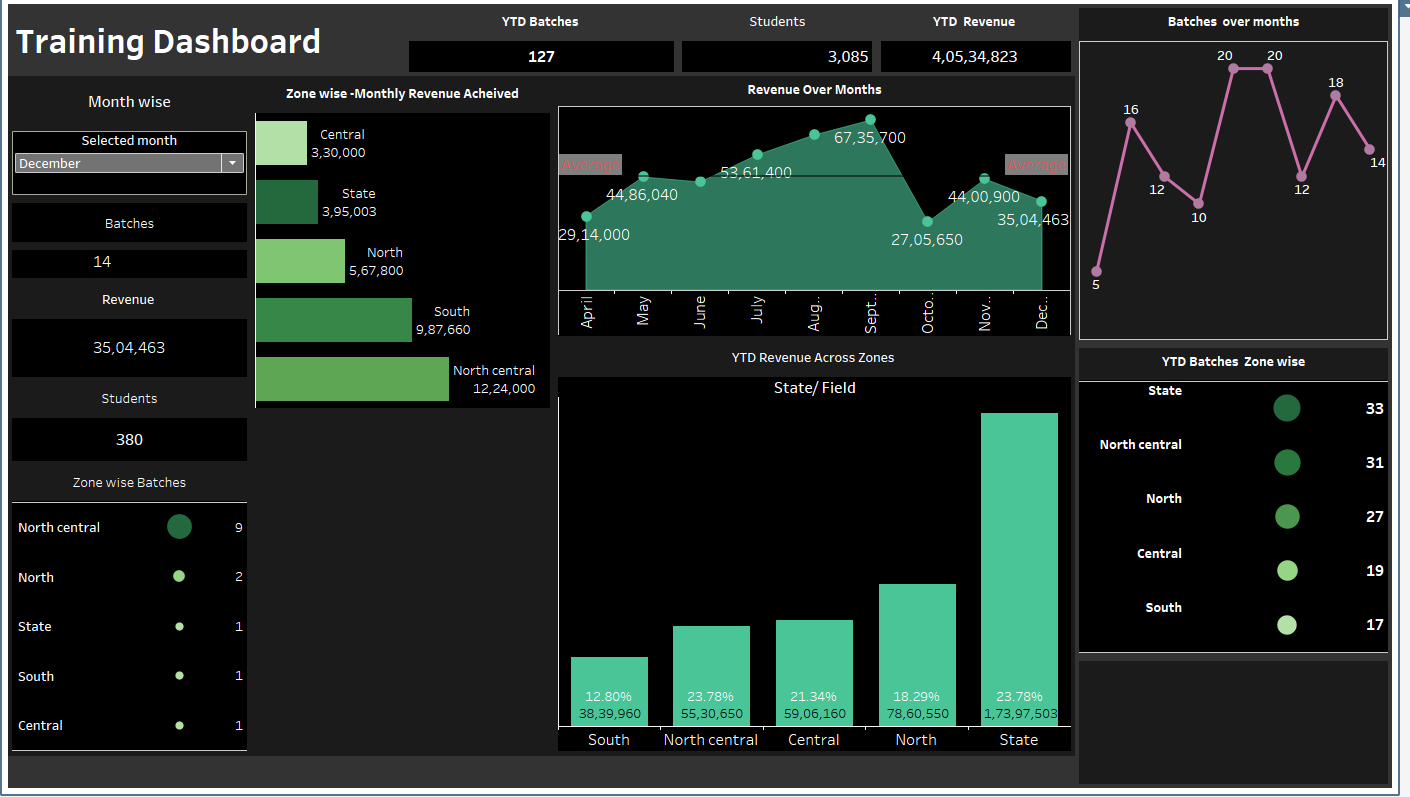

What the dashboard file says about the page in this screenshot:
{"tool":"tableau","page":{"name":"Dashboard 3","canvas":[1400,800],"ordinal":1},"visuals":[{"type":"text","box":[8,8,397,72]},{"type":"worksheet","title":"Sheet 4","mark":"Automatic","box":[405,8,273,72]},{"type":"worksheet","title":"Sheet 35","mark":"Automatic","box":[678,8,198.5,72]},{"type":"worksheet","title":"Sheet 23 (2)","mark":"Automatic","box":[876.5,8,198.5,72]},{"type":"worksheet","title":"Sheet 9","mark":"Area","rows":["Calculation_1015843232582213640","Calculation_1015843232582213640"],"cols":["Commencement Month"],"box":[1075,8,317,340]},{"type":"text","box":[8,80,243,51]},{"type":"worksheet","title":"Sheet 19","mark":"Bar","rows":["State/ Field"],"cols":["Calculation_980658862989041665"],"box":[251,80,303,336]},{"type":"text","box":[554,80,521,30]},{"type":"worksheet","title":"Sheet 24","mark":"Line","rows":["Calculation_1678998280487677957","Calculation_1678998280487677957"],"cols":["Commencement Month"],"box":[554,110,521,238]},{"type":"parameter","param":"[Parameters].[Parameter 1]","box":[8,131,243,72]},{"type":"text","box":[8,203,243,47]},{"type":"worksheet","title":"Sheet 1","mark":"Automatic","box":[8,250,243,36]},{"type":"worksheet","title":"Sheet 38","mark":"Automatic","box":[8,286,243,99]},{"type":"worksheet","title":"Sheet 33","mark":"Bar","rows":["Calculation_1678998280487677957"],"cols":["State/ Field"],"box":[554,348,521,411]},{"type":"worksheet","title":"Sheet 4 (2)","mark":"Circle","rows":["State/ Field"],"box":[1075,348,317,313]},{"type":"worksheet","title":"Sheet 36","mark":"Automatic","box":[8,385,243,87.7]},{"type":"blank","box":[251,416,303,165]},{"type":"worksheet","title":"Sheet 11","mark":"Circle","rows":["State/ Field"],"box":[8,472.7,243,286.3]},{"type":"blank","box":[251,581,303,178]},{"type":"blank","box":[1075,661,317,131]}]}

Visuals, with their boxes in screenshot pixels (x1, y1, x2, y2), scaled from the page's 1400x800 canvas onto the 1410x797 screenshot:
text: region(8, 8, 408, 80)
"Sheet 4" worksheet: region(408, 8, 683, 80)
"Sheet 35" worksheet: region(683, 8, 883, 80)
"Sheet 23 (2)" worksheet: region(883, 8, 1083, 80)
"Sheet 9" worksheet (Area marks): region(1083, 8, 1402, 347)
text: region(8, 80, 253, 131)
"Sheet 19" worksheet (Bar marks): region(253, 80, 558, 414)
text: region(558, 80, 1083, 110)
"Sheet 24" worksheet (Line marks): region(558, 110, 1083, 347)
parameter: region(8, 131, 253, 202)
text: region(8, 202, 253, 249)
"Sheet 1" worksheet: region(8, 249, 253, 285)
"Sheet 38" worksheet: region(8, 285, 253, 384)
"Sheet 33" worksheet (Bar marks): region(558, 347, 1083, 756)
"Sheet 4 (2)" worksheet (Circle marks): region(1083, 347, 1402, 659)
"Sheet 36" worksheet: region(8, 384, 253, 471)
blank: region(253, 414, 558, 579)
"Sheet 11" worksheet (Circle marks): region(8, 471, 253, 756)
blank: region(253, 579, 558, 756)
blank: region(1083, 659, 1402, 789)
